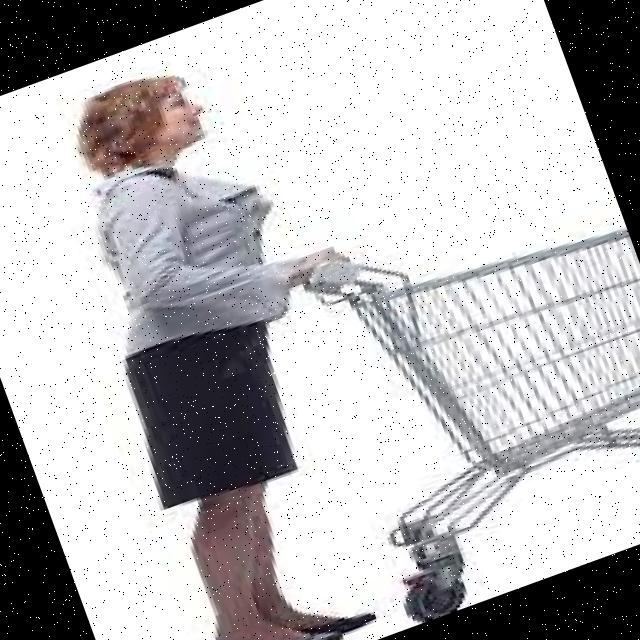Person: (15, 33, 467, 640)
